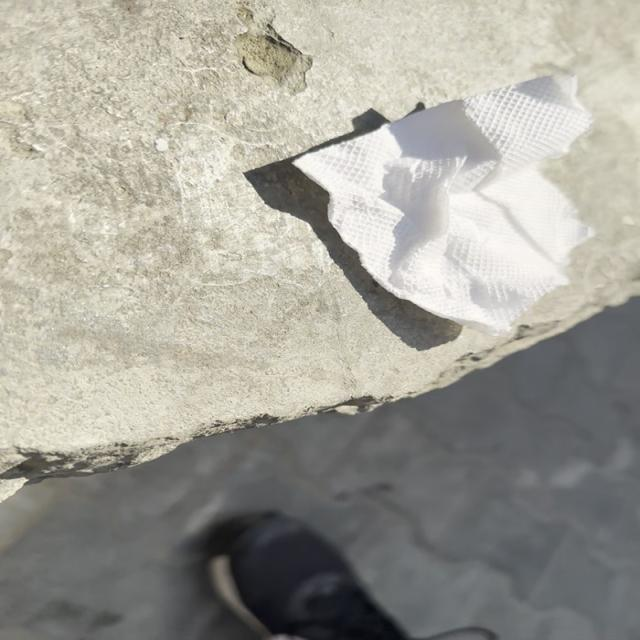tissue: (285, 67, 600, 339)
